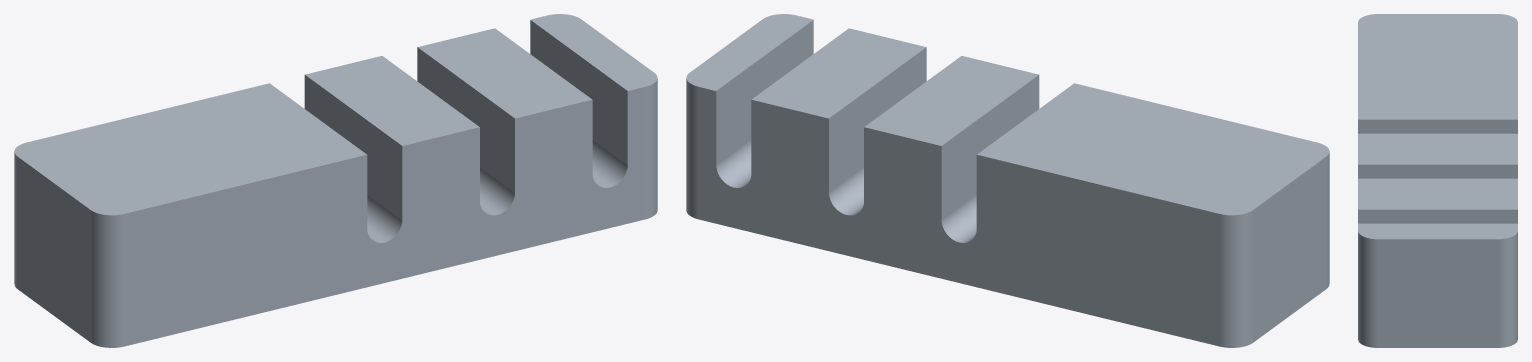
3 views of the same model, side by side, from view 1: azimuth 30°, elevation 25°; view 2: azimuth 150°, elevation 25°; view 3: azimuth 270°, elevation 25° (orthographic). The views are drawn at different scales.
Parts seen in each view (by area): view 1: Cable holder; view 2: Cable holder; view 3: Cable holder.
Boxes of the visible parts, left/top/right/bottom form: Cable holder: left=14, top=14, right=657, bottom=347; Cable holder: left=686, top=14, right=1329, bottom=347; Cable holder: left=1358, top=14, right=1517, bottom=347.
Size of the model in its own units: 0.08 by 0.018 by 0.024.
